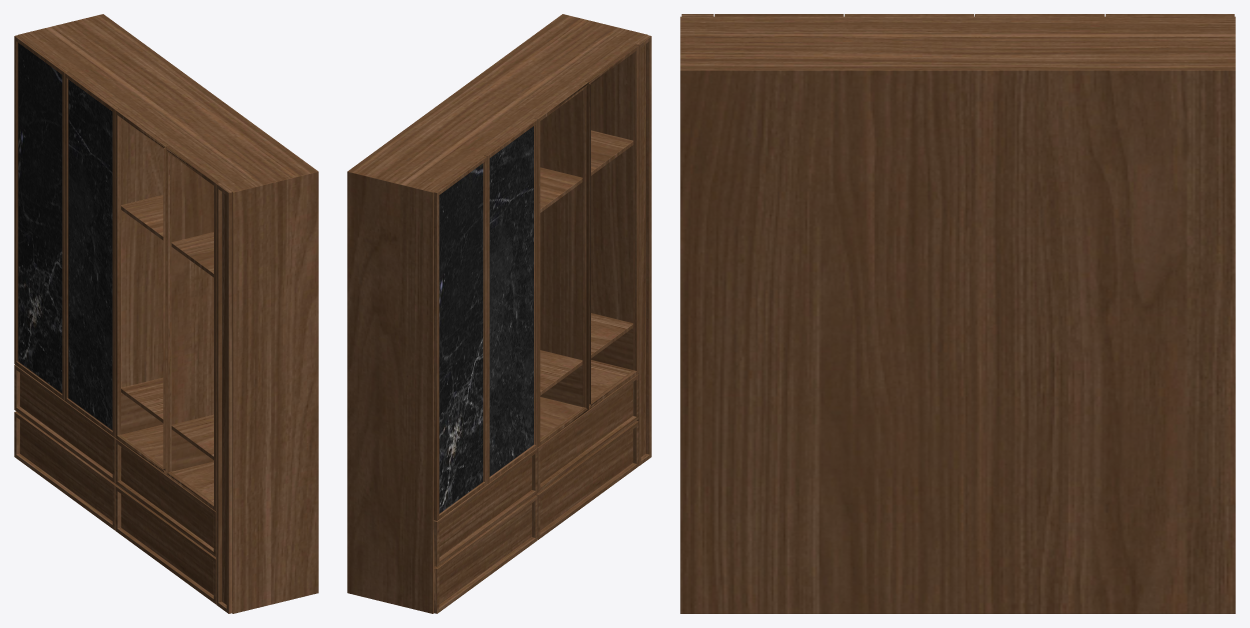
Rendered from Wardrobe.fbx.
3 renders of one model, left to right at view 1: azimuth 30°, elevation 25°; view 2: azimuth 150°, elevation 25°; view 3: azimuth 270°, elevation 25°, orthographic. The views are drawn at different scales.
Visible parts, largest first — view 1: Wardrobe_Cabinet; view 2: Wardrobe_Cabinet; view 3: Wardrobe_Cabinet.
Boxes of the visible parts, left/top/right/bottom form: Wardrobe_Cabinet: left=14, top=14, right=318, bottom=613; Wardrobe_Cabinet: left=347, top=14, right=651, bottom=613; Wardrobe_Cabinet: left=680, top=14, right=1235, bottom=613.
Size of the model in its own units: 61.03 by 274 by 254.
Materials: 2 (2 with a texture image).
